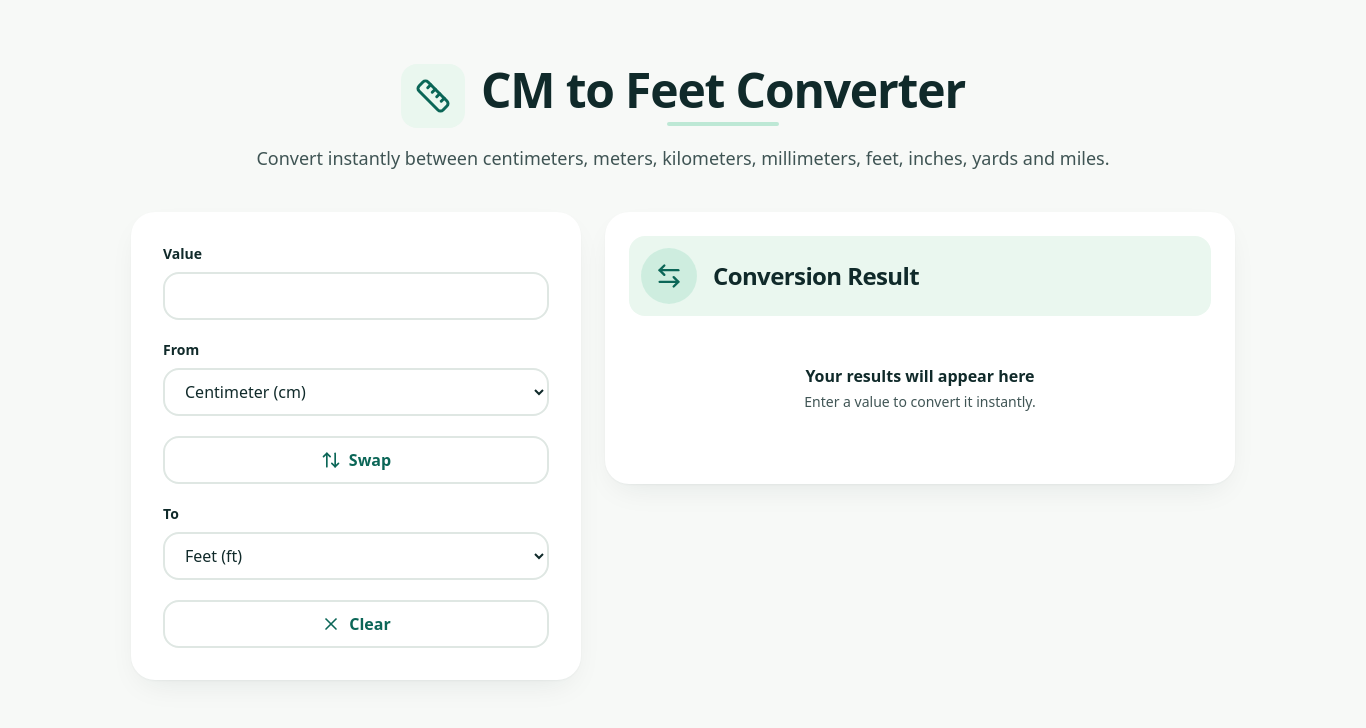
CM to Feet Converter › swaps units
Type "1" into the field labelled "Value" at (356, 296), box [163,272,549,320]
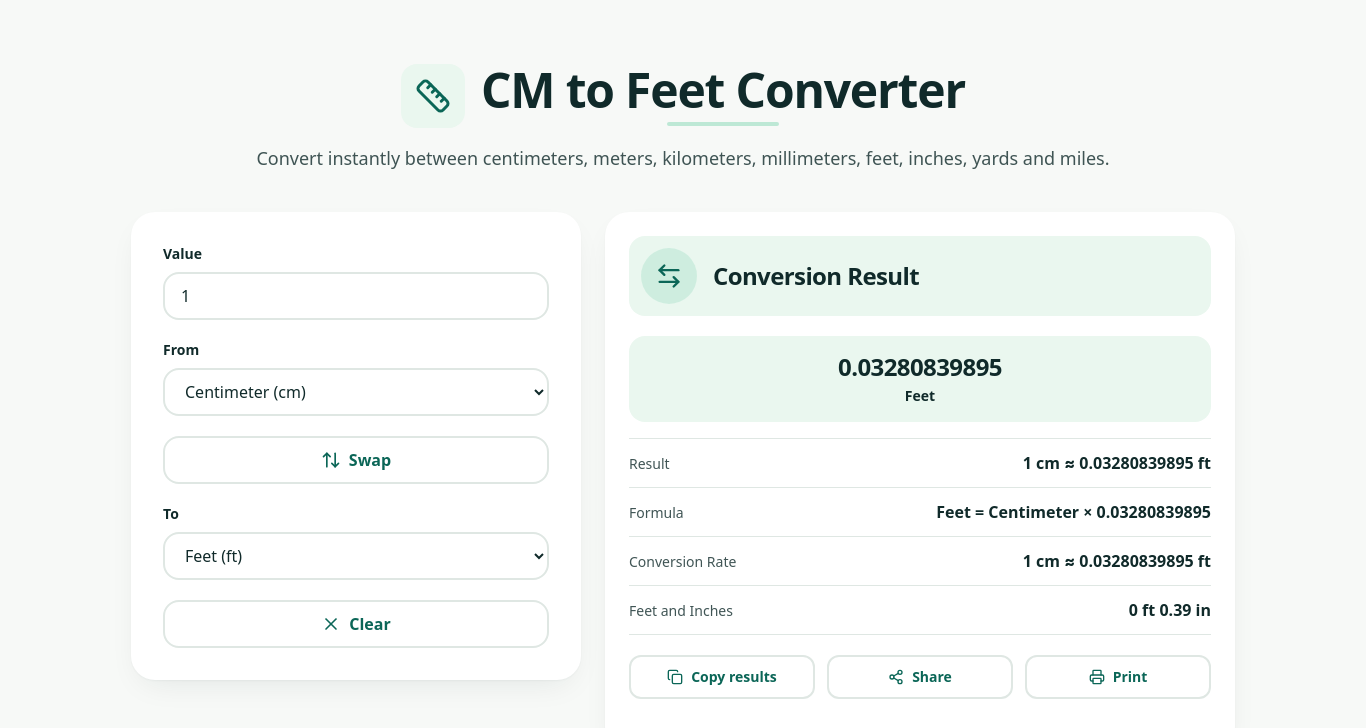
Click the button with aria-label "Swap units" at (356, 460), box [163,436,549,484]
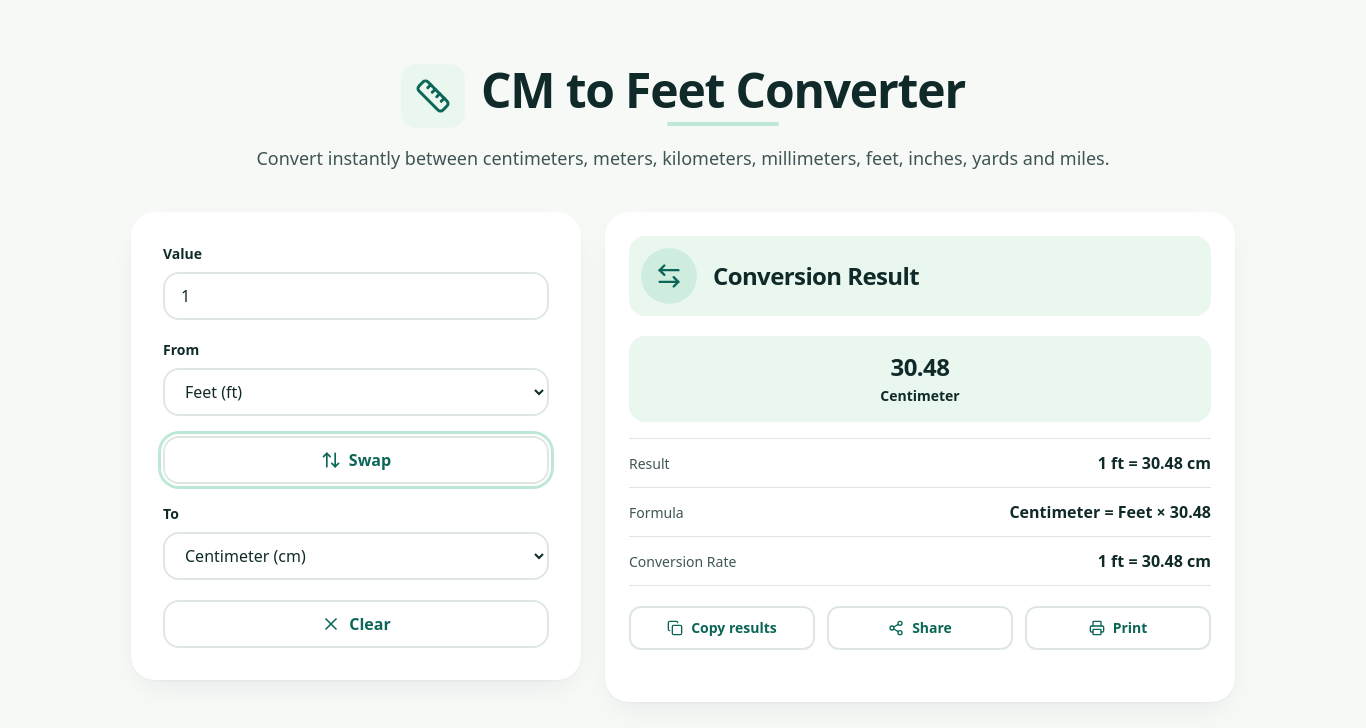
Expected: the text "Feet and Inches" is not shown
Result: the dropdown labelled "From" shows "Feet (ft)" at [163,368,549,416]
Result: the dropdown labelled "To" shows "Centimeter (cm)" at [163,532,549,580]
